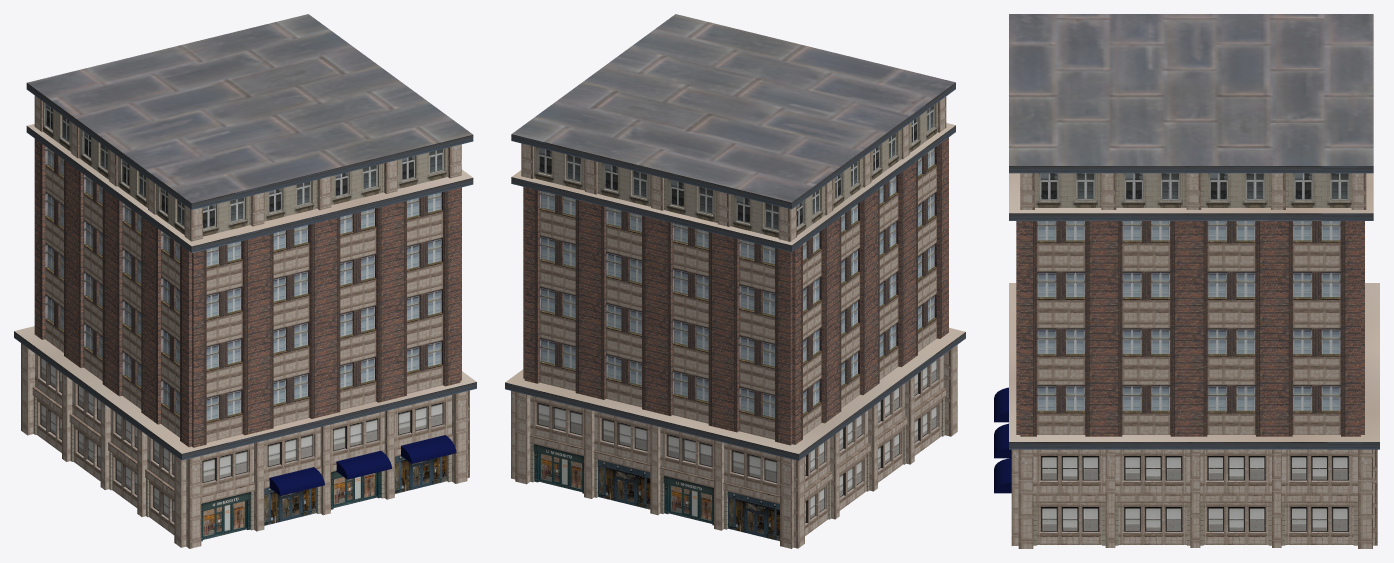
Rendered from building3.fbx.
3 views of the same model, side by side, from view 1: azimuth 30°, elevation 25°; view 2: azimuth 150°, elevation 25°; view 3: azimuth 270°, elevation 25° (orthographic). The views are drawn at different scales.
Visible parts, largest first — view 1: Plane.007, Plane.019, Plane.018, Plane.006, Plane, atlas.008, Plane.008, Plane.009, Plane.014, atlas.025, atlas.001, Plane.005 (+17 smaller); view 2: Plane.017, Plane.019, Plane.018, Plane.015, Plane, atlas.024, Plane.008, Plane.009, Plane.014, atlas.025, Plane.012, Plane.013 (+17 smaller); view 3: Plane.016, Plane.019, Plane.010, Plane.011, atlas.023, Plane, Plane.008, Cube.005, Cube.009, atlas.012, atlas.010, Cube.007 (+16 smaller).
Boxes of the visible parts, x1,y1,x2,y2 form: Plane.007: (192,187,460,447); Plane.019: (26,14,473,209); Plane.018: (34,138,191,447); Plane.006: (201,395,451,495); Plane: (14,326,476,460); atlas.008: (203,148,447,236); Plane.008: (26,124,473,252); Plane.009: (36,398,174,534); Plane.014: (35,353,174,487); atlas.025: (43,101,184,234); atlas.001: (201,492,250,541); Plane.005: (395,455,447,493); Plane.017: (524,187,792,445); Plane.019: (511,14,955,209); Plane.018: (792,137,948,444); Plane.015: (530,395,779,495); Plane: (505,327,965,460); atlas.024: (534,146,778,237); Plane.008: (511,123,955,252); Plane.009: (805,400,941,535); Plane.014: (805,355,943,489); atlas.025: (797,102,937,235); Plane.012: (597,460,650,509); Plane.013: (727,491,779,541); Plane.016: (1020,221,1360,436); Plane.019: (1009,14,1373,173); Plane.010: (1033,449,1357,493); Plane.011: (1037,503,1353,544); atlas.023: (1035,173,1351,207); Plane: (1009,283,1379,449); Plane.008: (1009,173,1373,220); Cube.005: (1018,449,1033,548); Cube.009: (1358,449,1372,548); atlas.012: (1281,493,1357,545); atlas.010: (1115,493,1190,545); Cube.007: (1190,449,1200,547).
Size of the model in its own units: 252 by 283 by 258.
